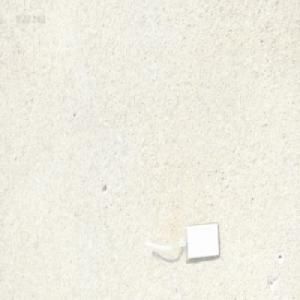LuggageTag: (143, 219, 220, 262)
